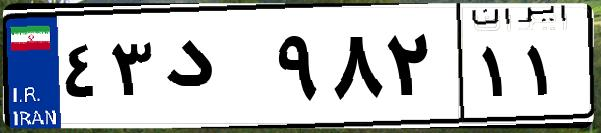1: (475, 38, 525, 113), (525, 38, 570, 115)
2: (385, 28, 445, 110)
3: (110, 28, 158, 98)
4: (57, 26, 110, 100)
8: (330, 28, 385, 110)
9: (270, 28, 330, 110)
د: (158, 20, 270, 120)
